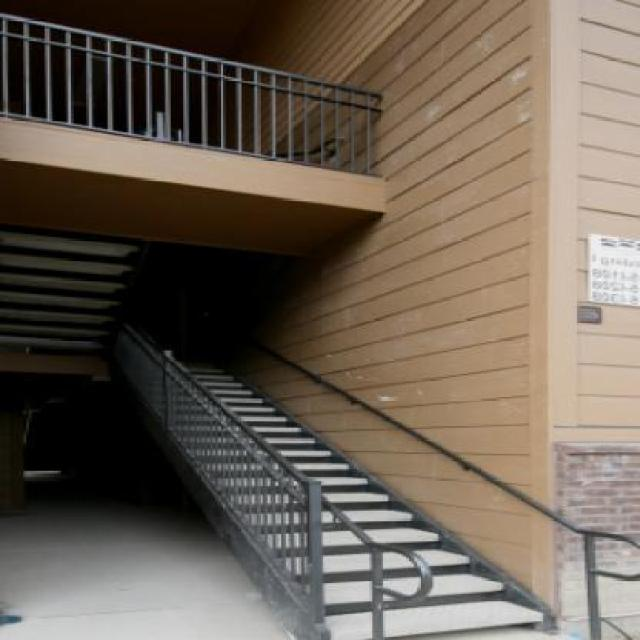stair: (55, 216, 603, 638)
